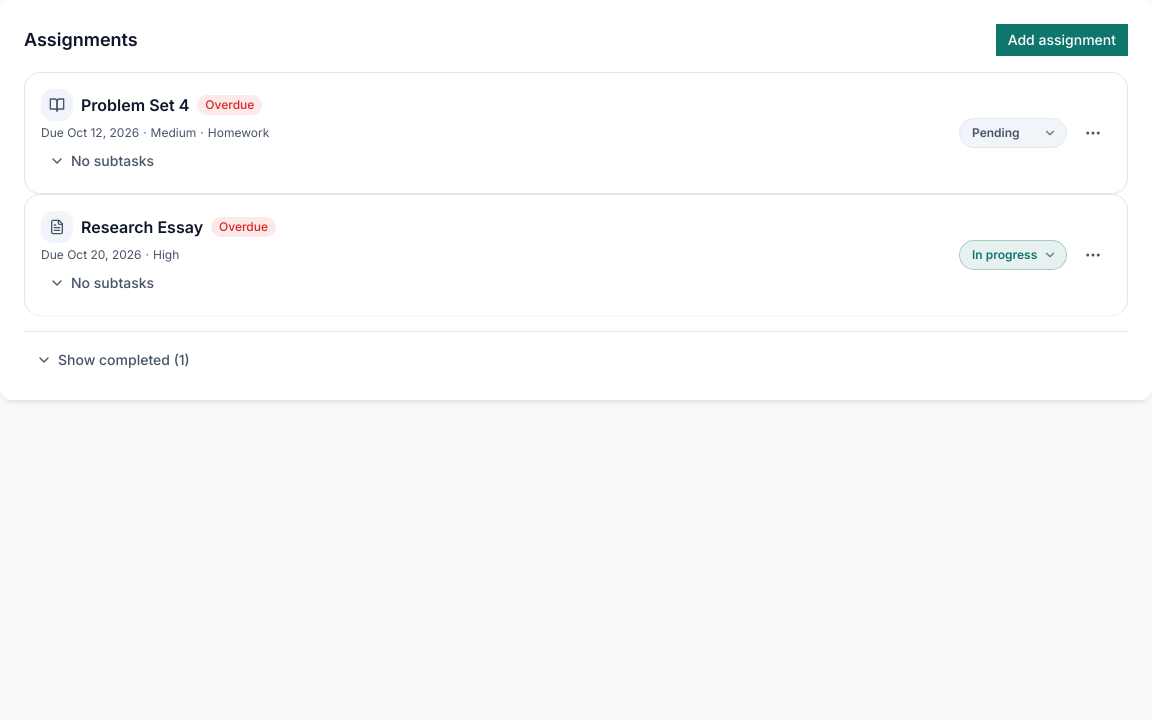
Test case: AssignmentsSection (AC 4, D112-6) › opens AssignmentForm in edit mode with pre-filled fields from the overflow menu
Step 1. Click the button named "Actions for Problem Set 4" → {"x": 1093, "y": 133}, box [1075,115,1111,151]
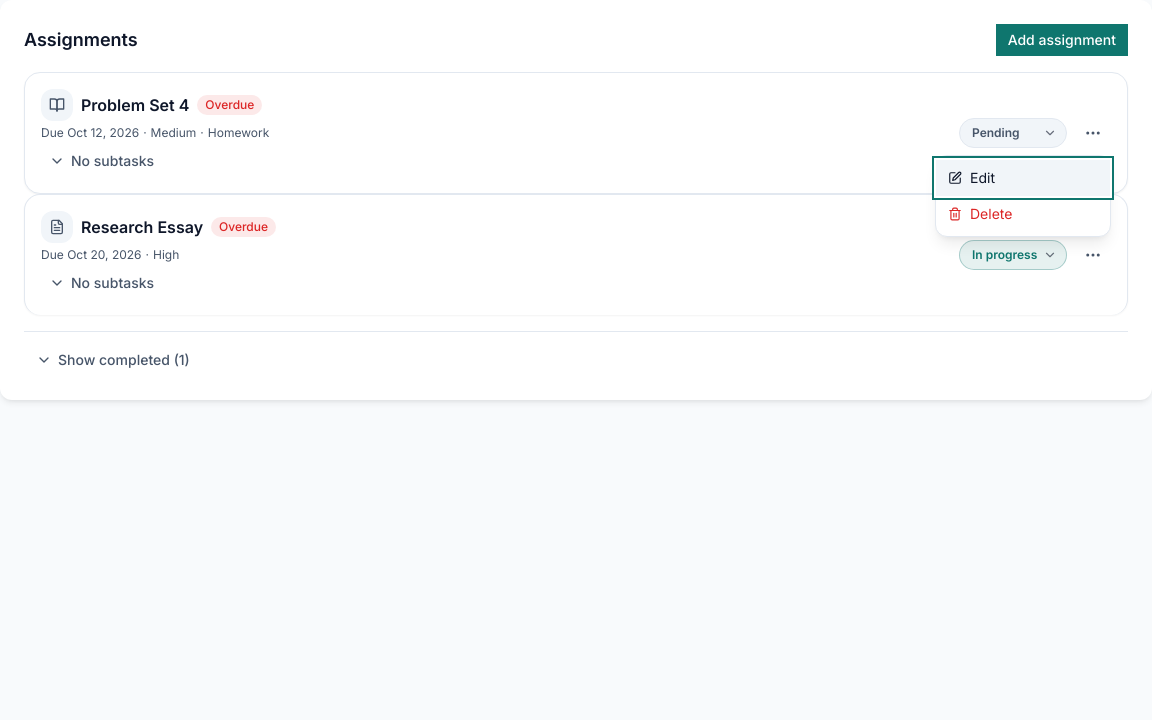
Step 2. Click the menu item with aria-label "Edit Problem Set 4" → {"x": 1023, "y": 178}, box [936,160,1110,196]
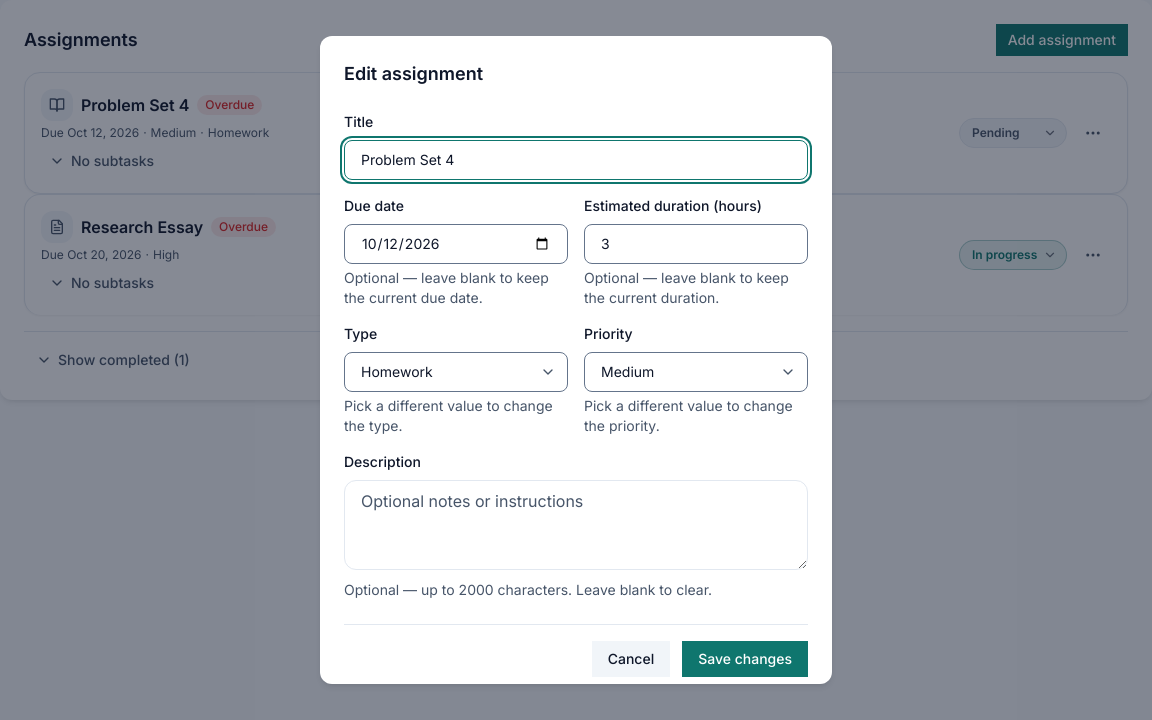
expect the heading "Edit assignment" is shown: met, box [344,63,483,84]
expect the button "Save changes" is shown: met, box [682,641,808,677]
expect the field labelled "Title" holds "Problem Set 4": met, box [344,140,808,180]
